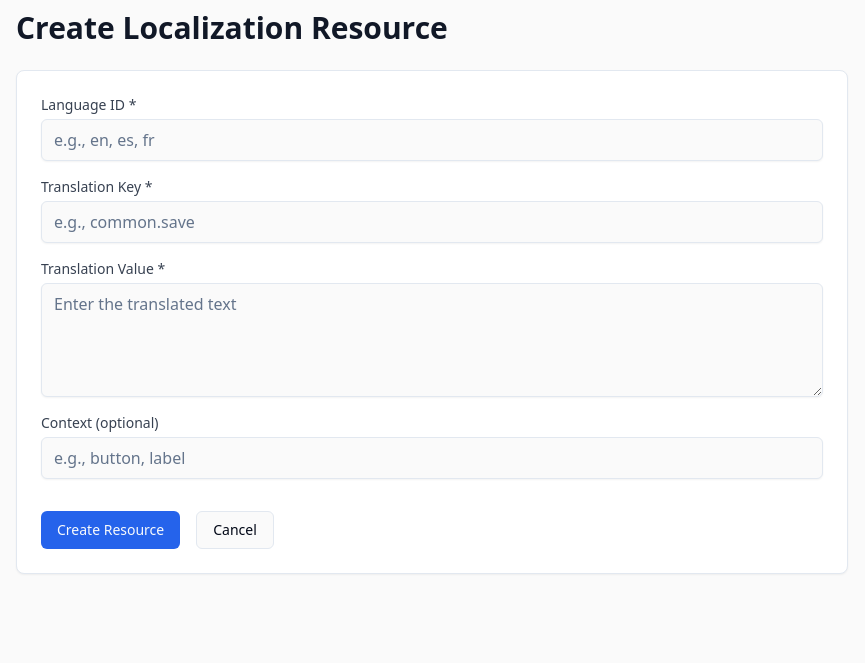
CreateLocalizationResourcePage › should validate required fields
Click the button "Create Resource": click(111, 530) x1=41 y1=511 x2=180 y2=549
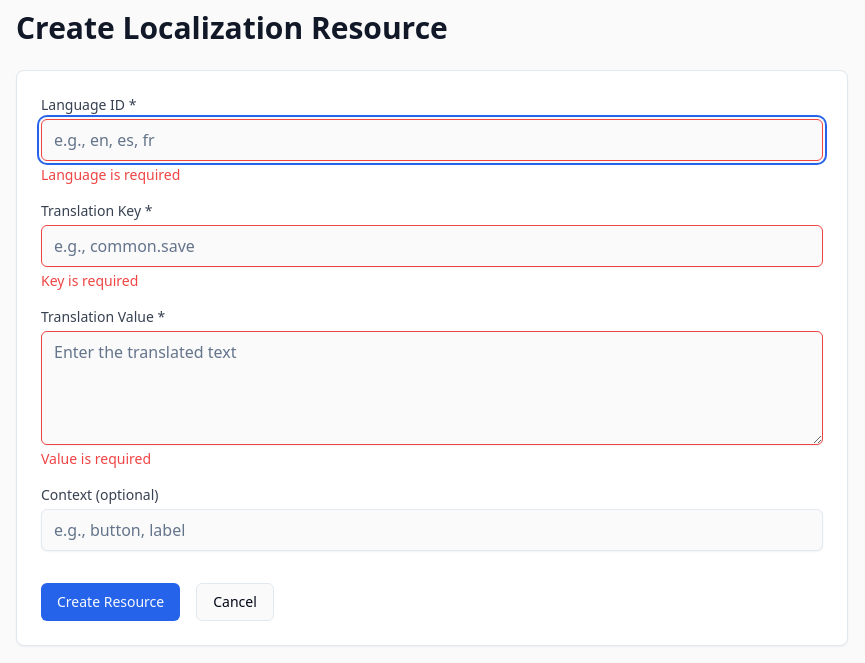
Result: the text "Language is required" is shown at x1=41 y1=165 x2=180 y2=184
